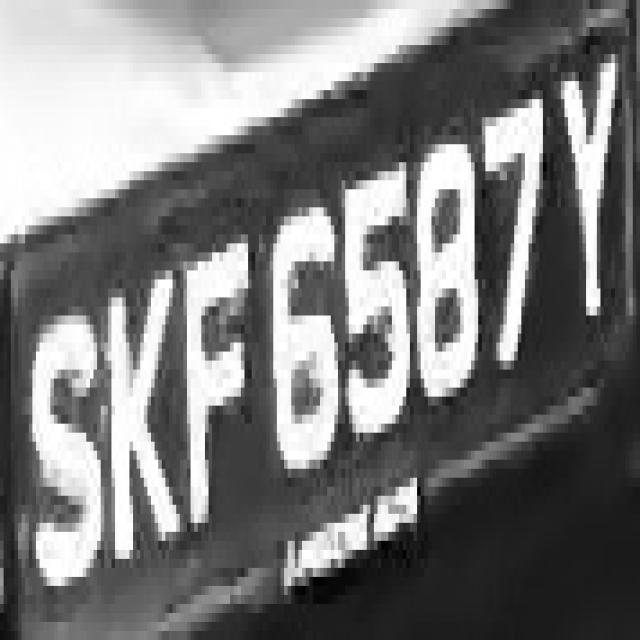5: (338, 117, 406, 487)
6: (262, 180, 352, 496)
7: (478, 72, 550, 388)
8: (406, 117, 489, 406)
F: (183, 234, 248, 550)
K: (93, 252, 180, 577)
S: (22, 270, 104, 604)
Y: (554, 36, 629, 343)
